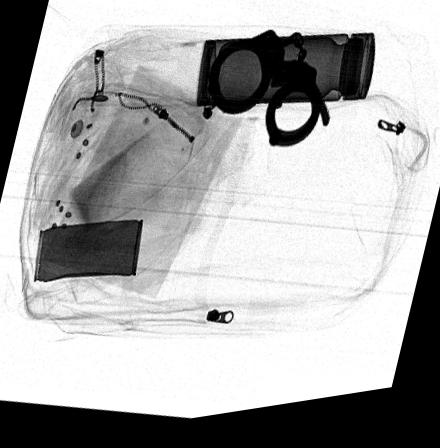HandCuffs: (206, 36, 329, 155)
